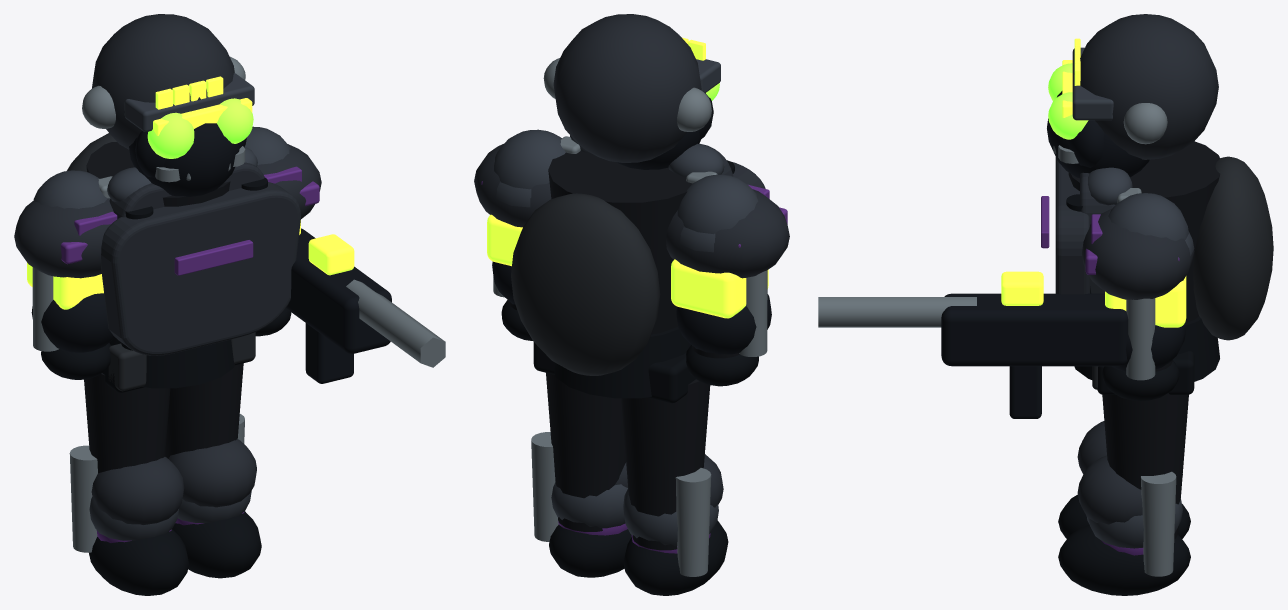
The model's file is sentinel_l04.glb.
3 views of the same model, side by side, from view 1: azimuth 30°, elevation 25°; view 2: azimuth 150°, elevation 25°; view 3: azimuth 270°, elevation 25° (orthographic). The views are drawn at different scales.
Parts seen in each view (by area): view 1: contoured_tactical_plate, trouser (×2), rounded_helmet, shaped_knee_guard (×2), rounded_boot (×2), broad_shoulder_guard (×2), heavy_carbine, enclosed_mask, heavy_barrel, shoulder_joint (×2), waist_flex, forearm_guard (+20 smaller); view 2: shaped_field_pack, rounded_helmet, trouser (×2), body, broad_shoulder_guard (×2), rounded_boot (×2), shoulder_joint (×2), shin_frame (×2), rank_stripe (×2), knee_plate (×2), waist_flex, forearm_guard (×2) (+9 smaller); view 3: rounded_helmet, heavy_carbine, shaped_field_pack, trouser, broad_shoulder_guard, rounded_boot (×2), body, heavy_barrel, shaped_knee_guard (×2), contoured_tactical_plate, shin_frame, shoulder_joint (+16 smaller).
Boxes of the visible parts, x1,y1,x2,y2 form: contoured_tactical_plate: (101,182,300,355); trouser (×2): (84,363,243,472); rounded_helmet: (92,14,234,149); shaped_knee_guard (×2): (91,439,256,524); rounded_boot (×2): (89,511,261,595); broad_shoulder_guard (×2): (14,144,321,278); heavy_carbine: (286,228,391,353); enclosed_mask: (129,123,239,196); heavy_barrel: (346,279,445,367); shoulder_joint (×2): (33,126,290,208); waist_flex: (109,337,234,388); forearm_guard: (31,293,114,352); shaped_field_pack: (511,193,660,375); rounded_helmet: (553,14,701,162); trouser (×2): (546,373,710,550); body: (548,151,692,334); broad_shoulder_guard (×2): (474,144,789,278); rounded_boot (×2): (549,520,728,595); shoulder_joint (×2): (494,129,758,234); shin_frame (×2): (531,432,711,576); rank_stripe (×2): (487,214,768,318); knee_plate (×2): (551,482,718,546); waist_flex: (554,326,691,398); forearm_guard (×2): (492,261,771,354); rounded_helmet: (1074,14,1218,159); heavy_carbine: (941,293,1128,366); shaped_field_pack: (1193,156,1273,340); trouser: (1102,393,1188,539); broad_shoulder_guard: (1082,208,1194,299); rounded_boot (×2): (1058,494,1190,595); body: (1068,141,1220,322); heavy_barrel: (818,297,976,327); shaped_knee_guard (×2): (1077,421,1142,524); contoured_tactical_plate: (1055,157,1089,294); shin_frame: (1141,471,1176,576); shoulder_joint: (1108,193,1188,240).
Size of the model in its own units: 1.05 by 1.88 by 1.41.
